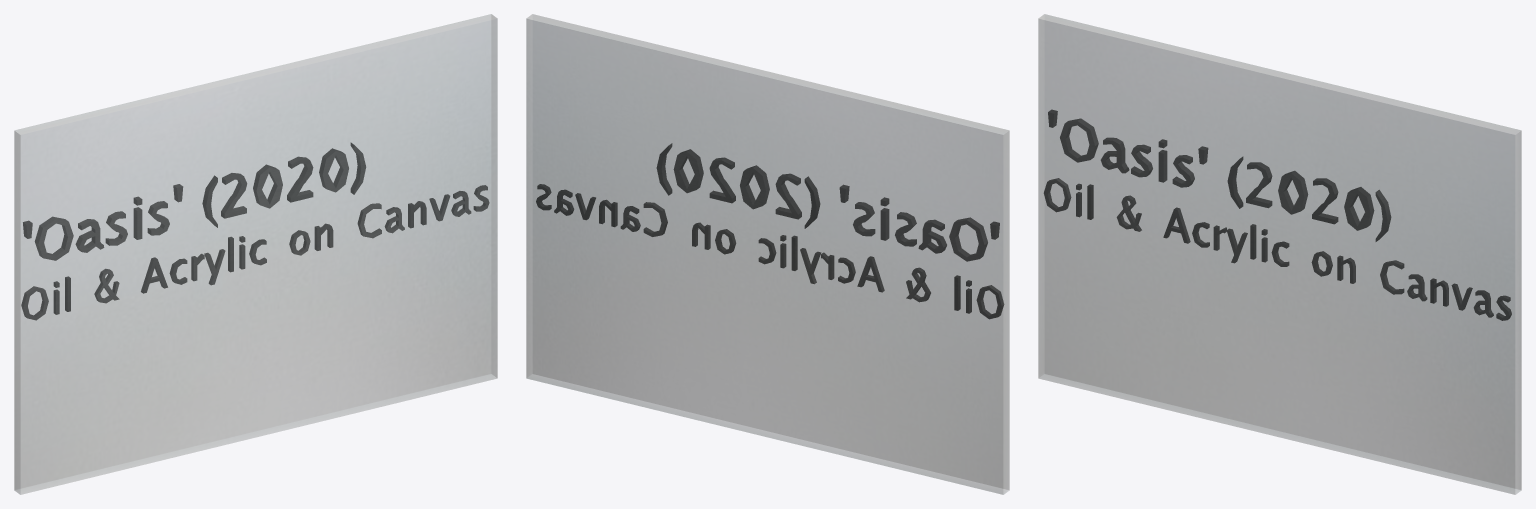
Rendered from Oasisglassdisplayed.fbx.
3 renders of one model, left to right at view 1: azimuth 30°, elevation 25°; view 2: azimuth 150°, elevation 25°; view 3: azimuth 330°, elevation 25°, orthographic.
Parts seen in each view (by area): view 1: pCube2, typeMesh, typeMesh1; view 2: pCube2, typeMesh, typeMesh1; view 3: pCube2, typeMesh, typeMesh1.
Boxes of the visible parts, x1,y1,x2,y2 form: pCube2: (14,14,497,494); typeMesh: (23,143,365,260); typeMesh1: (21,185,489,320); pCube2: (526,14,1009,494); typeMesh: (656,143,999,261); typeMesh1: (536,184,1004,319); pCube2: (1038,14,1521,494); typeMesh: (1048,109,1391,241); typeMesh1: (1044,178,1511,320).
Bounding box in the file's own units: 8.22 × 5.93 × 0.1877.
